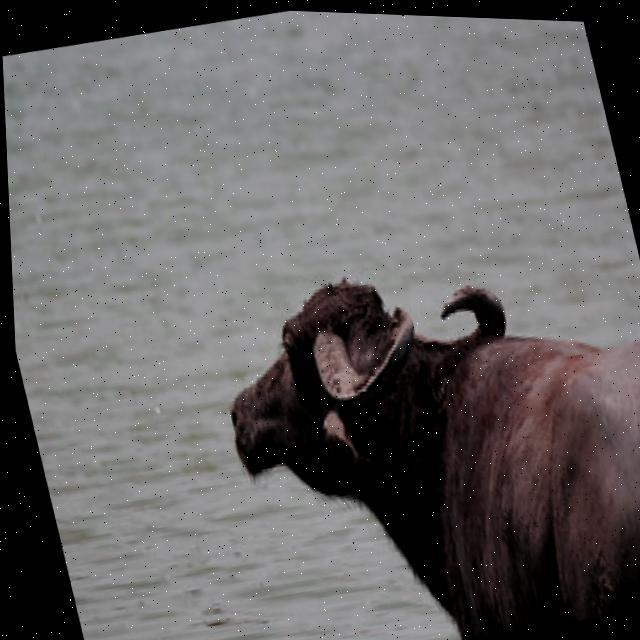Buffalo: (195, 212, 640, 640)
